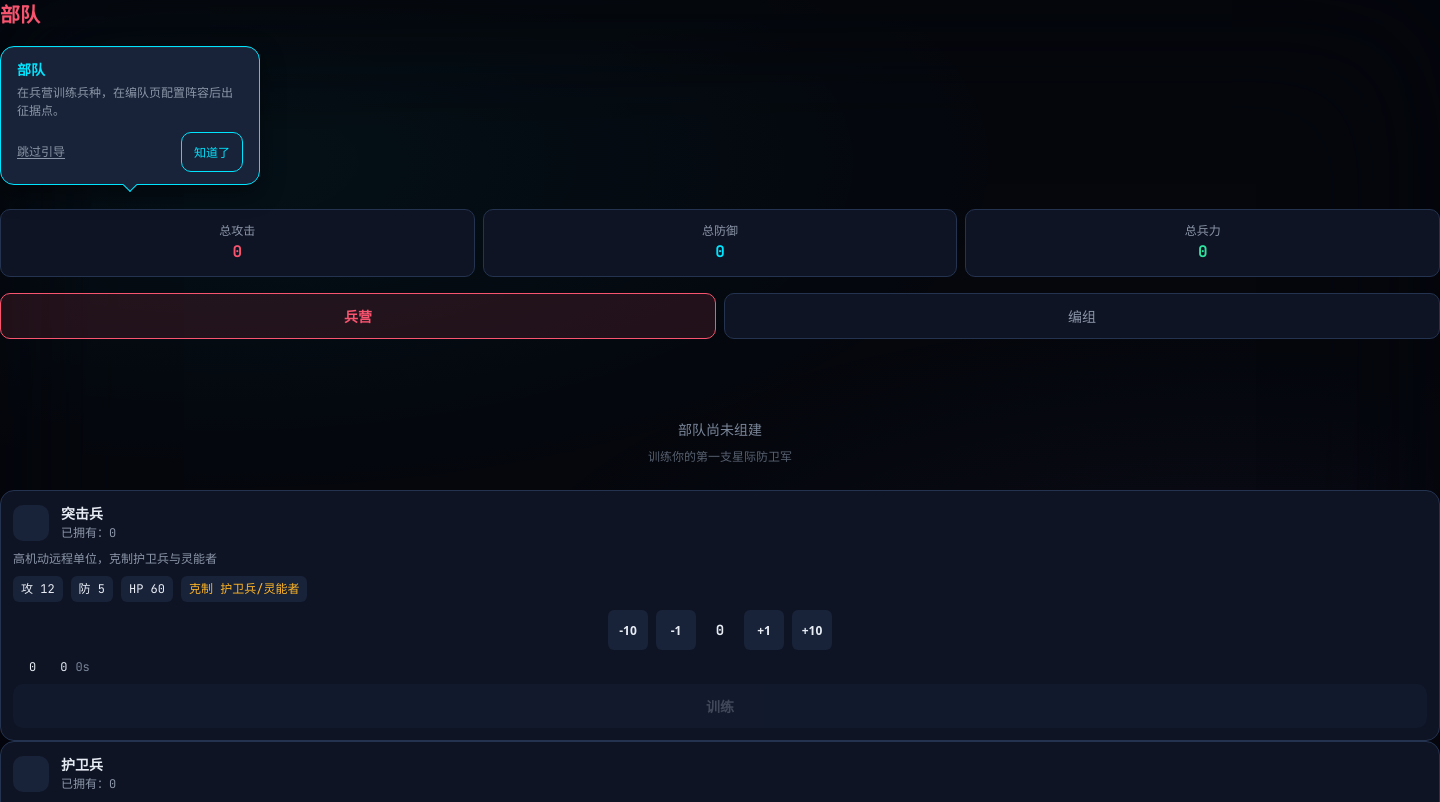
Test: ArmyView — 兵营训练 › 训练数量调整与训练任务入队
Click the button with class "count-btn" showing "+10": coordinates (812, 630) [792, 610, 832, 650]
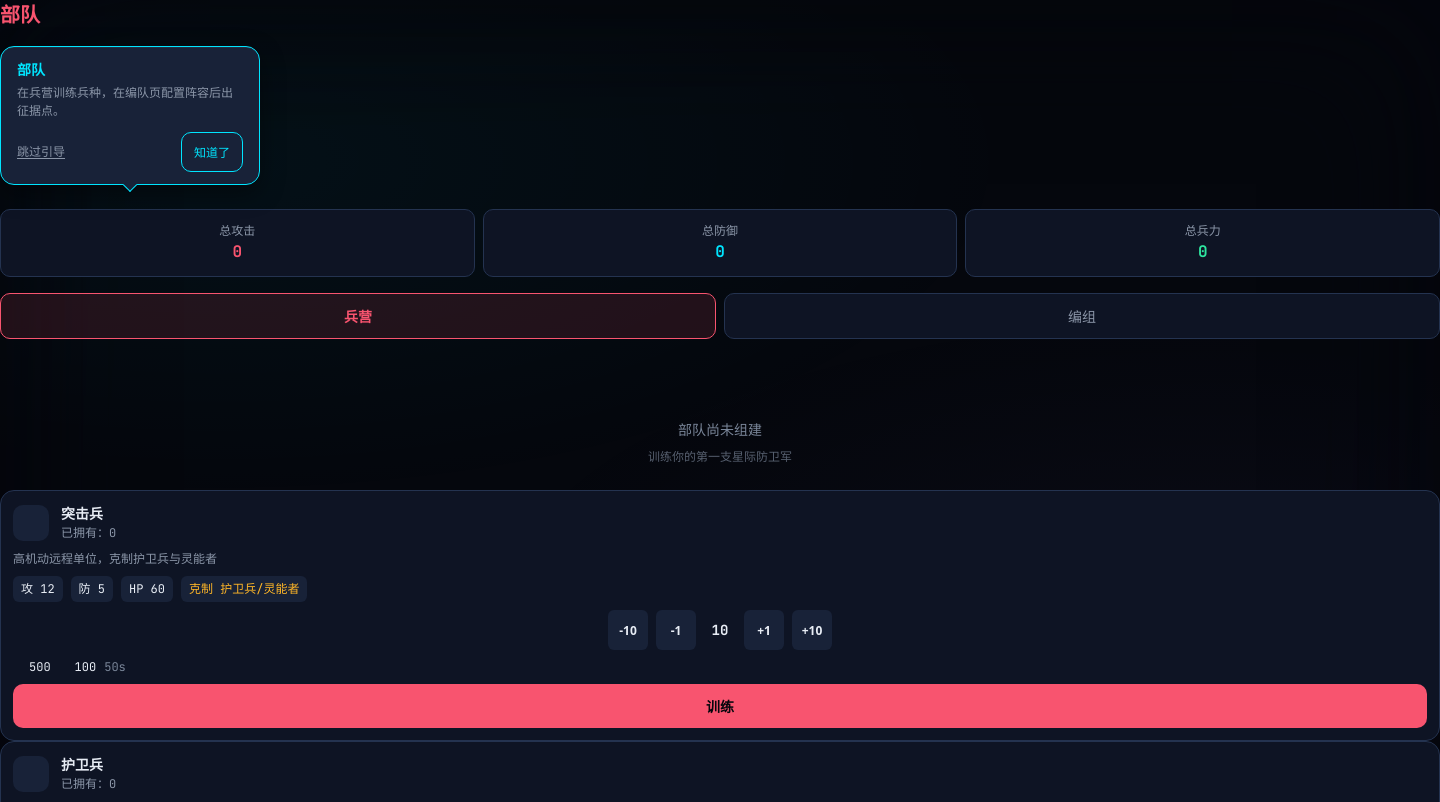
Result: the text with class "count-display" reads "10" at [712, 620, 728, 638]
Click the button with class "btn-accent": coordinates (720, 706) [13, 684, 1427, 728]
(page scrolled)
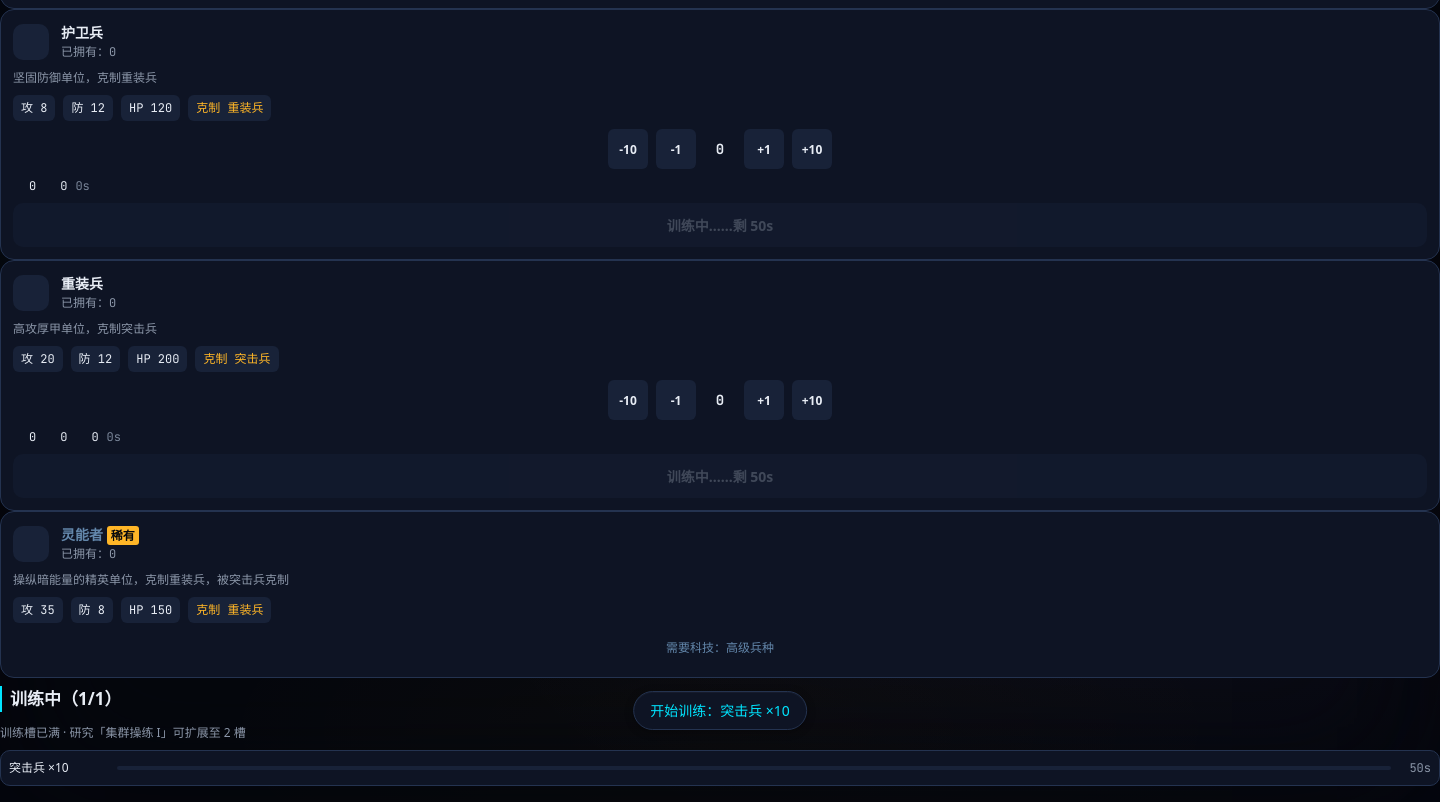
Result: the element with class "train-queue" is shown at [0, 686, 1439, 786]
Result: the text "训练中（1/1）" is shown at [0, 686, 1439, 712]
